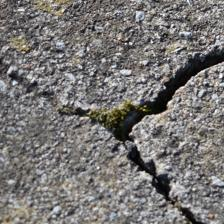Crack: (13, 57, 118, 165), (62, 24, 162, 90), (51, 42, 117, 128)
